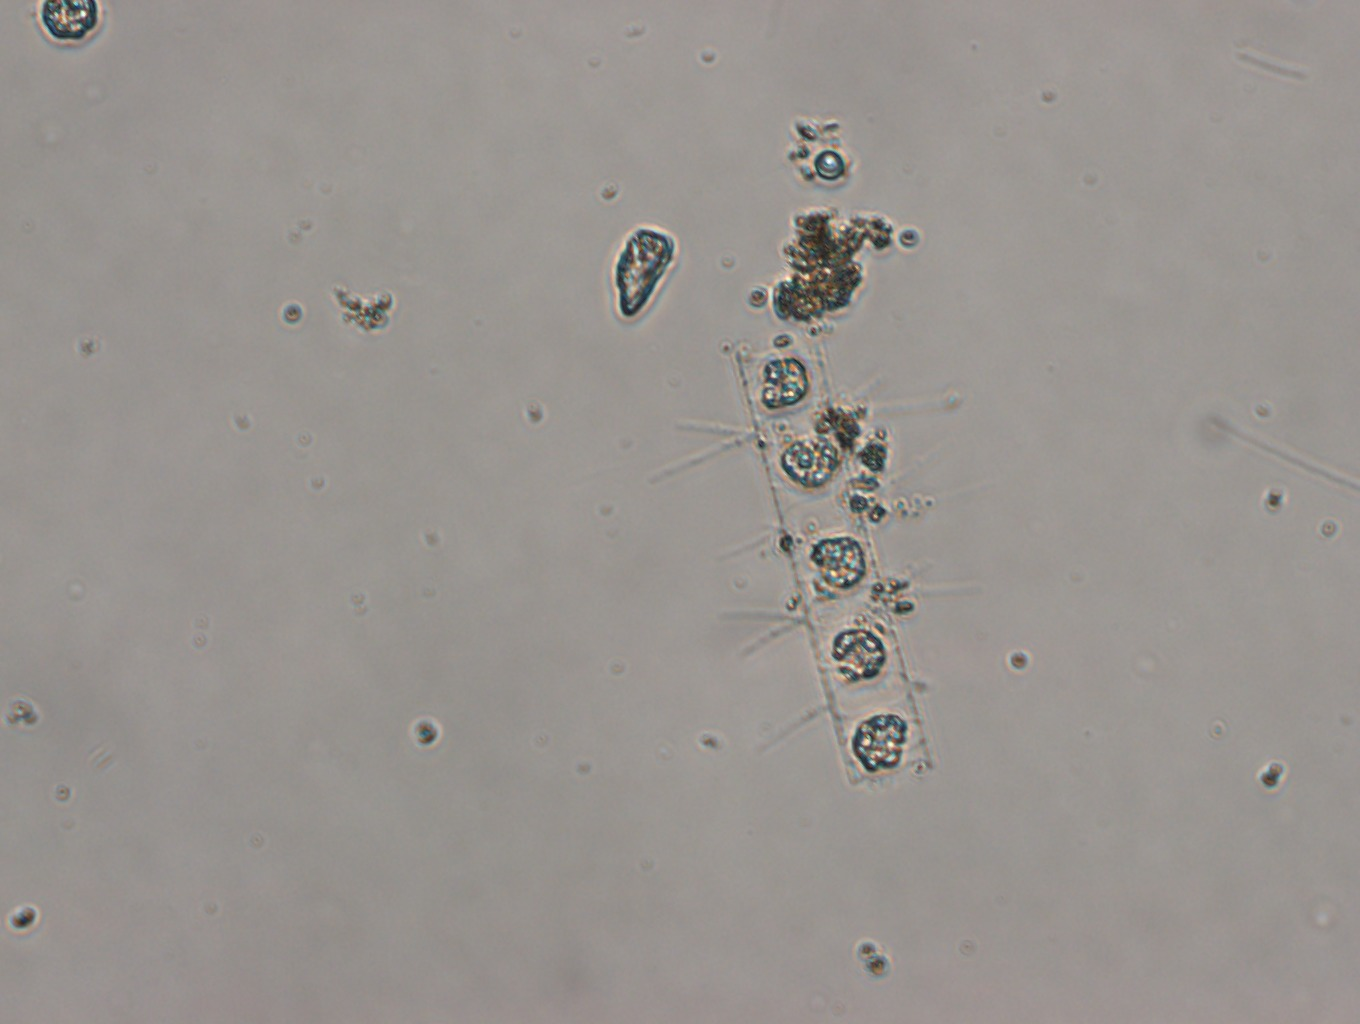chaetoceros: (652, 330, 977, 790)
